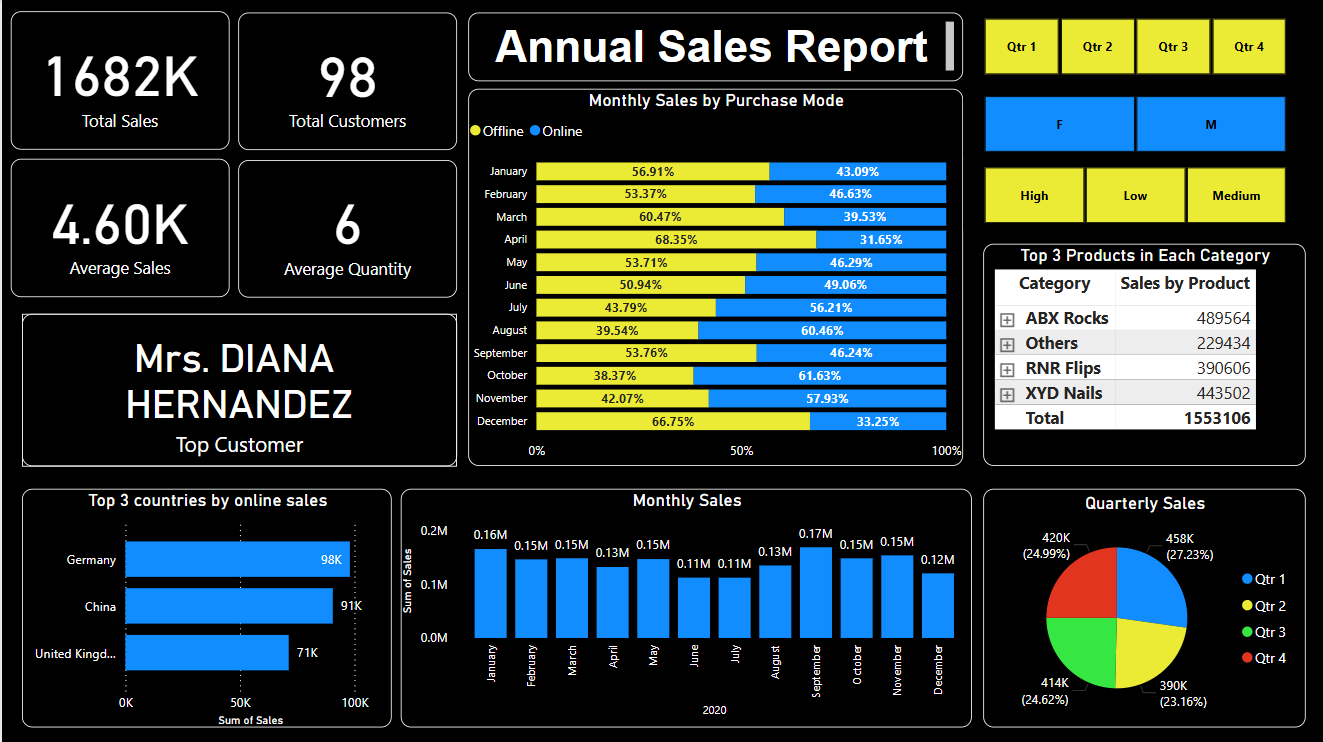

This screenshot's page, from the dashboard's own definition file:
{"tool":"powerbi","page":{"name":"Page 1","canvas":[1280,720],"ordinal":0},"visuals":[{"type":"barChart","title":"Top 3 countries by online sales","fields":{"Category":["Sales.Country"],"Series":["Sales.Purchase type"],"Y":["Sales.Sales"]},"box":[19.3,471.7,357.1,230.4],"z":0},{"type":"clusteredColumnChart","title":"Monthly Sales","fields":{"Category":["Sales.Date.Variation.Date Hierarchy.Year","Sales.Date.Variation.Date Hierarchy.Month"],"Y":["Sales.Sales"]},"box":[384.9,471.7,551.3,230.4],"z":1000},{"type":"card","fields":{"Values":["Sales.Sales"]},"box":[8.4,10.9,211.1,133.9],"z":2000},{"type":"card","fields":{"Values":["Customers.Customer ID"]},"box":[228,12.1,211.1,132.7],"z":3000},{"type":"pieChart","title":"Quarterly Sales","fields":{"Y":["Sales.Sales"],"Category":["Sales.Date.Variation.Date Hierarchy.Quarter"]},"box":[947.1,471.7,311.3,230.4],"z":4000},{"type":"slicer","fields":{"Values":["Sales.Date.Variation.Date Hierarchy.Quarter"]},"box":[927.8,10.9,330.6,67.6],"z":5000},{"type":"card","title":"Avg Sales","fields":{"Values":["Sales.Sales"]},"box":[8.4,153.2,211.1,133.9],"z":6000},{"type":"card","fields":{"Values":["Sales.Top Customer"]},"box":[19.3,302.8,419.8,147.2],"z":7000},{"type":"pivotTable","title":"Top 3 Products in Each Category","fields":{"Rows":["ProductCategory.Category","ProductCategory.Product"],"Values":["Sales.Sales by Product"]},"box":[947.1,235.3,311.3,214.7],"z":8000},{"type":"textbox","title":"Annual Sales Report","box":[450,12.1,477.8,66.4],"z":9000},{"type":"card","fields":{"Values":["Sales.Quantity"]},"box":[228,154.4,211.1,132.7],"z":10000},{"type":"slicer","fields":{"Values":["Customers.Gender"]},"box":[927.8,85.7,330.6,67.6],"z":11000},{"type":"slicer","fields":{"Values":["Customers.Income Group"]},"box":[927.8,154.4,330.6,67.6],"z":12000},{"type":"hundredPercentStackedBarChart","title":"Monthly Sales by Purchase Mode","fields":{"Category":["Sales.Date.Variation.Date Hierarchy.Month"],"Y":["Sales.Sales"],"Series":["Sales.Purchase type"]},"box":[450.1,85.1,477.5,363.6],"z":13000}]}

Visuals, with their boxes in screenshot pixels (x1, y1, x2, y2), scaled from the page's 1280x720 canvas onto the 1323x742 screenshot:
"Top 3 countries by online sales" barChart: select_region(20, 486, 389, 724)
"Monthly Sales" clusteredColumnChart: select_region(398, 486, 968, 724)
card - Sales.Sales: select_region(9, 11, 227, 149)
card - Customers.Customer ID: select_region(236, 12, 454, 149)
"Quarterly Sales" pieChart: select_region(979, 486, 1301, 724)
slicer - Sales.Date.Variation.Date Hierarchy.Quarter: select_region(959, 11, 1301, 81)
"Avg Sales" card: select_region(9, 158, 227, 296)
card - Sales.Top Customer: select_region(20, 312, 454, 464)
"Top 3 Products in Each Category" pivotTable: select_region(979, 242, 1301, 464)
"Annual Sales Report" textbox: select_region(465, 12, 959, 81)
card - Sales.Quantity: select_region(236, 159, 454, 296)
slicer - Customers.Gender: select_region(959, 88, 1301, 158)
slicer - Customers.Income Group: select_region(959, 159, 1301, 229)
"Monthly Sales by Purchase Mode" hundredPercentStackedBarChart: select_region(465, 88, 959, 462)
